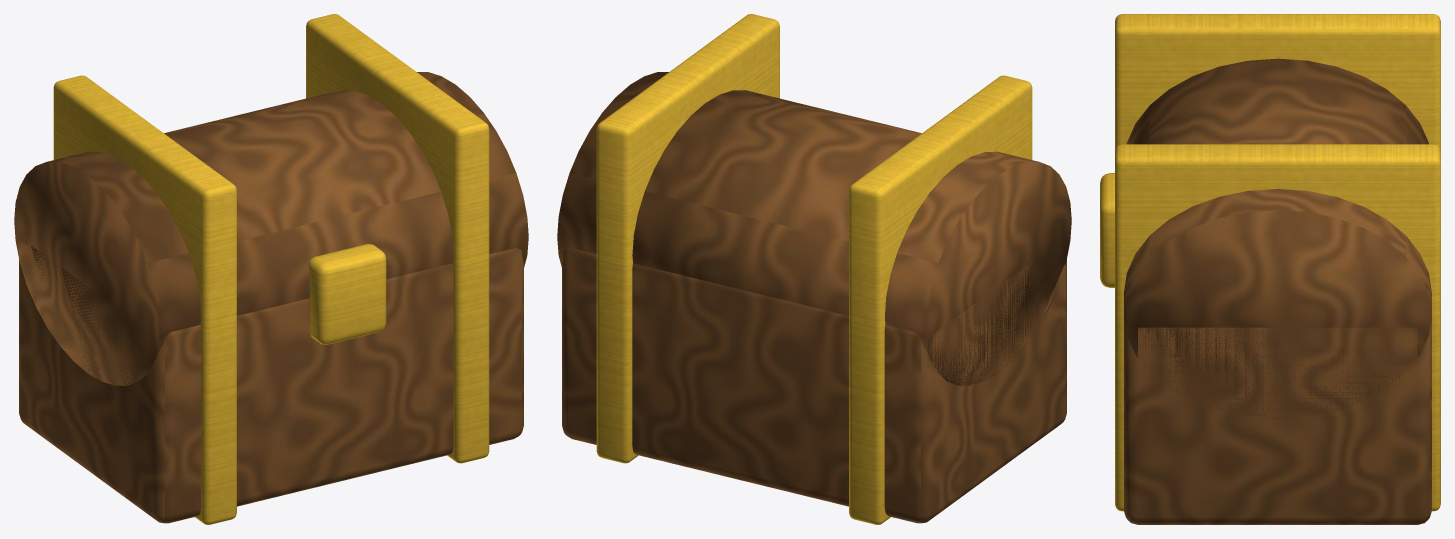
Rendered from treasure.glb.
3 renders of one model, left to right at view 1: azimuth 30°, elevation 25°; view 2: azimuth 150°, elevation 25°; view 3: azimuth 270°, elevation 25°, orthographic. The views are drawn at different scales.
Visible parts, largest first — view 1: Lid, Chest, Bands, Lock; view 2: Chest, Lid, Bands; view 3: Lid, Chest, Bands, Lock.
Boxes of the visible parts, <box> form: Lid: <box>14,72,528,385</box>; Chest: <box>19,240,523,523</box>; Bands: <box>53,14,489,524</box>; Lock: <box>308,244,386,344</box>; Chest: <box>562,248,1066,523</box>; Lid: <box>557,72,1071,385</box>; Bands: <box>596,14,1032,524</box>; Lid: <box>1124,58,1431,419</box>; Chest: <box>1124,316,1431,524</box>; Bands: <box>1115,14,1440,511</box>; Lock: <box>1100,173,1114,287</box>.
Bounding box in the file's own units: 0.38 × 0.33 × 0.2875.
2 materials, 2 textured.
